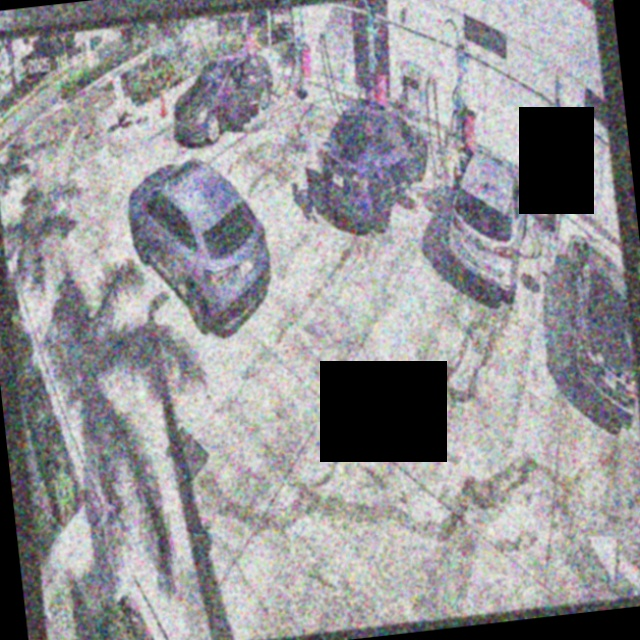Car: (119, 154, 276, 342), (308, 97, 435, 245), (436, 146, 540, 307), (167, 54, 281, 160)
